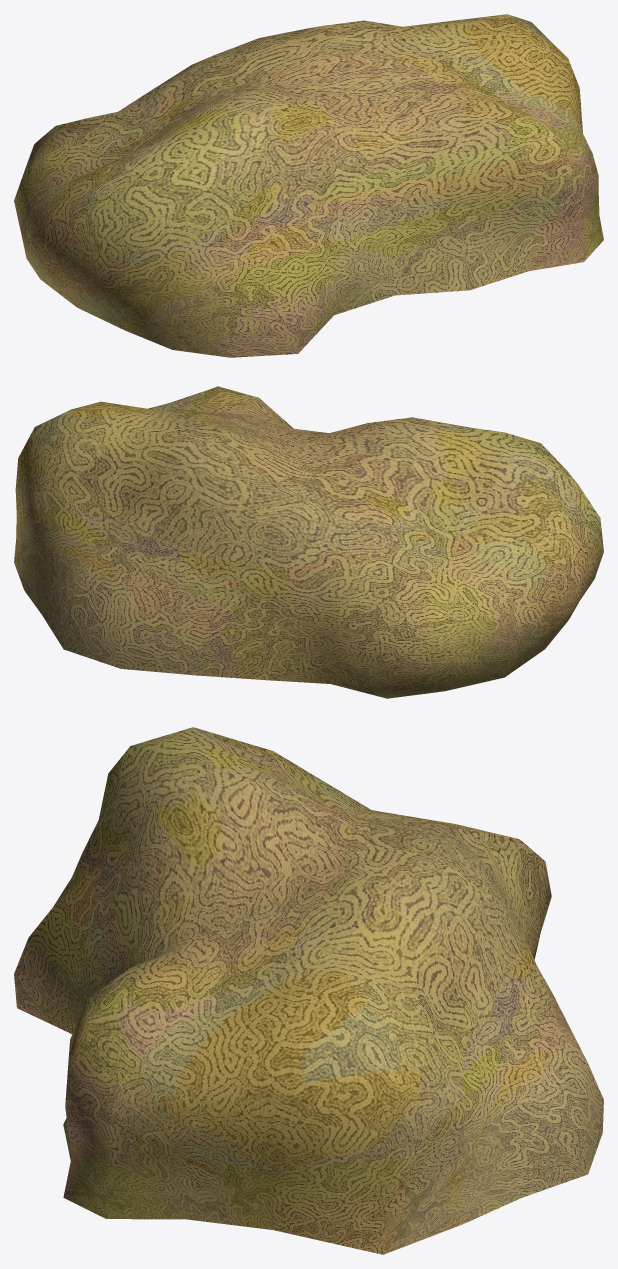
File: 12-BLDBrain.fbx
The picture shows the model from 3 angles, top to bottom: view 1: azimuth 30°, elevation 25°; view 2: azimuth 150°, elevation 25°; view 3: azimuth 270°, elevation 25°; orthographic projection. The views are drawn at different scales.
Visible parts, largest first — view 1: 12-BLDBrain_LOD00; view 2: 12-BLDBrain_LOD00; view 3: 12-BLDBrain_LOD00.
Part boxes in pixels (<box>): 12-BLDBrain_LOD00: <box>14,14,603,357</box>; 12-BLDBrain_LOD00: <box>14,386,603,698</box>; 12-BLDBrain_LOD00: <box>14,727,603,1254</box>.
Size of what is drawn, in the model's own units: 207 by 67.99 by 147.
